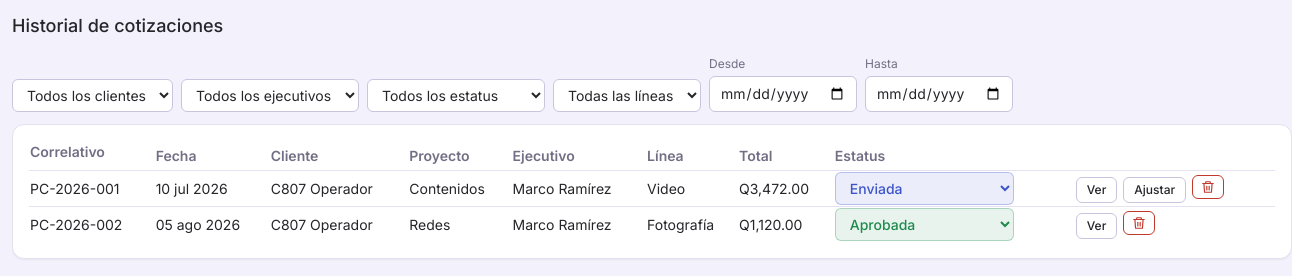
Scenario: HistorialPage › filters by línea de servicio
Expected: the text "PC-2026-001" is shown, top-left (29, 170), bottom-right (155, 206)
Expected: the text "PC-2026-002" is shown, top-left (29, 206), bottom-right (155, 242)
Select "Fotografía" in the dropdown named "Filtrar por línea de servicio": (627, 96) top-left (553, 79), bottom-right (701, 112)
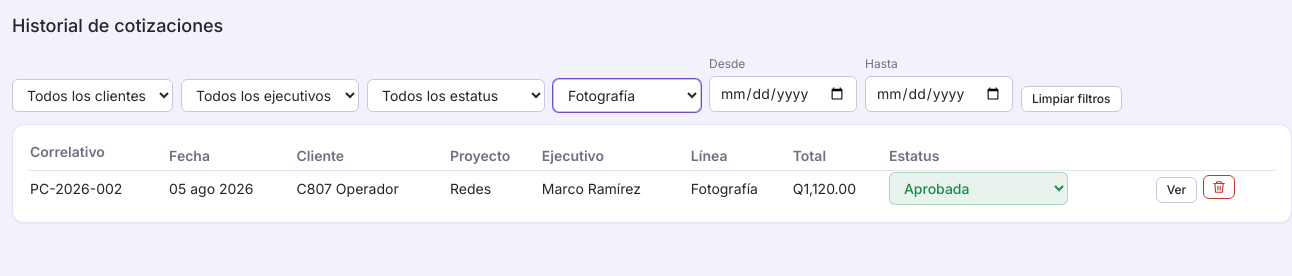
Expected: the text "PC-2026-002" is shown, top-left (29, 170), bottom-right (168, 206)
Result: the text "PC-2026-001" is gone
